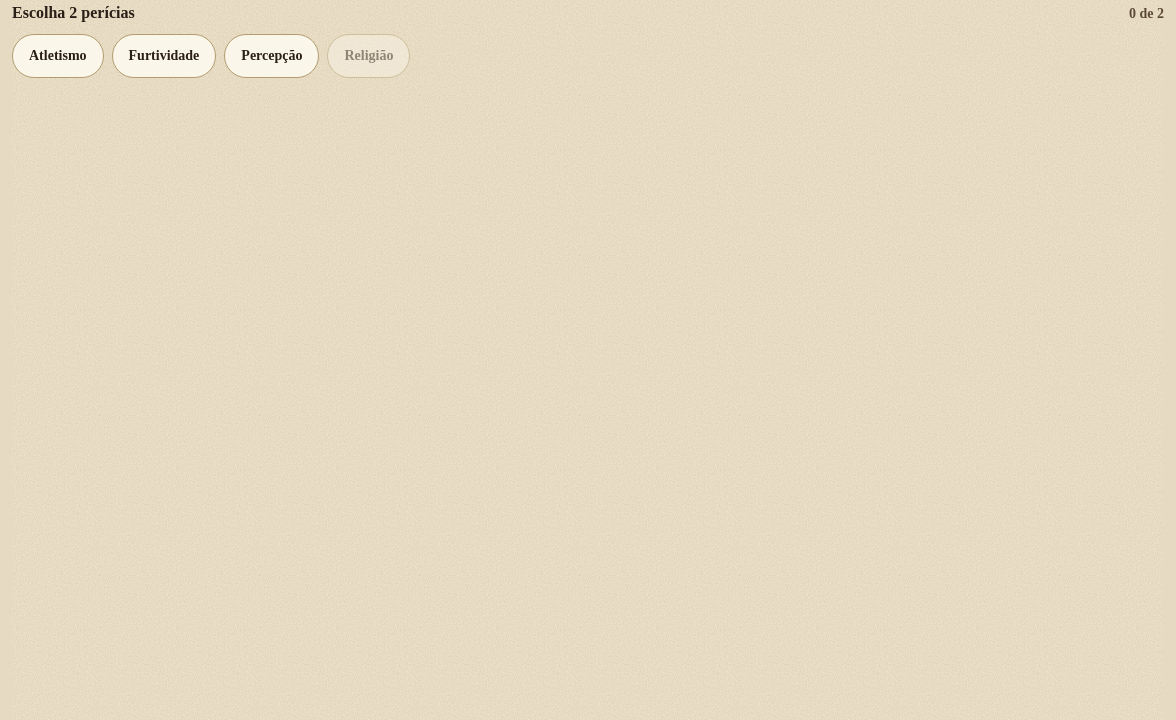
Scenario: <ChoicePicker> › conta as escolhas e bloqueia quando chega no limite
The width and height of the screenshot is (1176, 720).
Check: the text "0 de 2" is shown, box 1129,4 -> 1164,24
Click the checkbox labelled "Atletismo" at (58, 56), box 12,34 -> 104,78
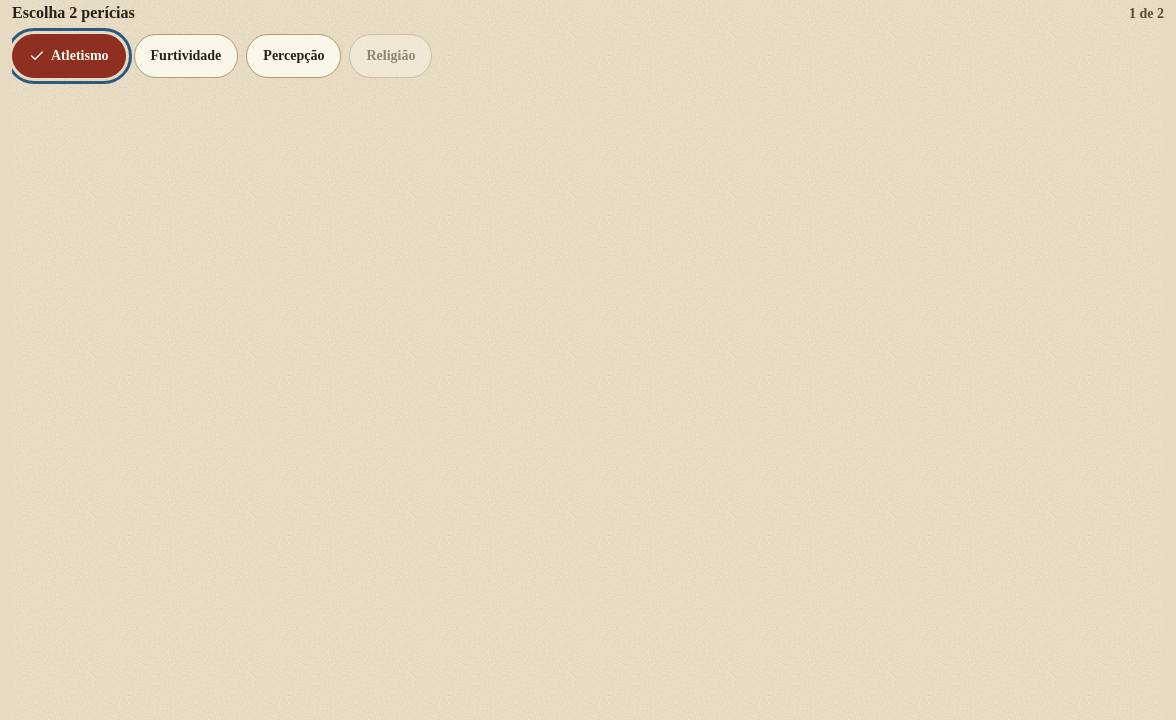
Click the checkbox labelled "Furtividade" at (186, 56), box 134,34 -> 238,78
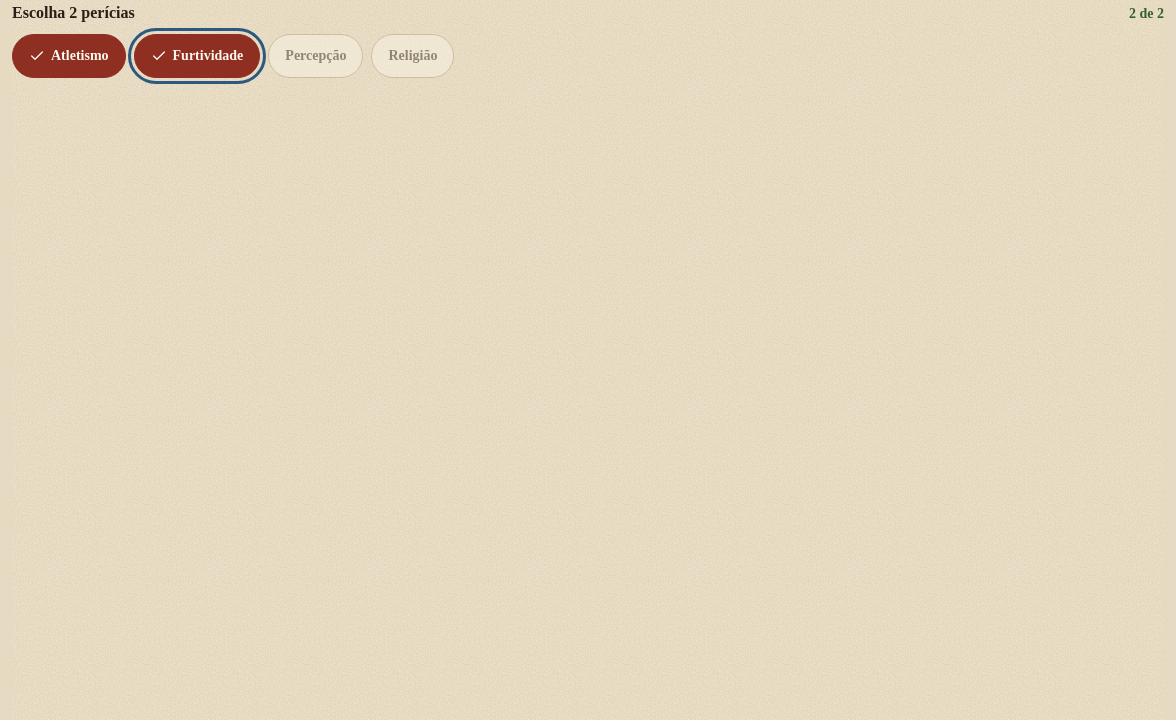
Check: the text "2 de 2" is shown, box 1129,4 -> 1164,24
Click the checkbox labelled "Percepção" at (316, 56), box 268,34 -> 364,78
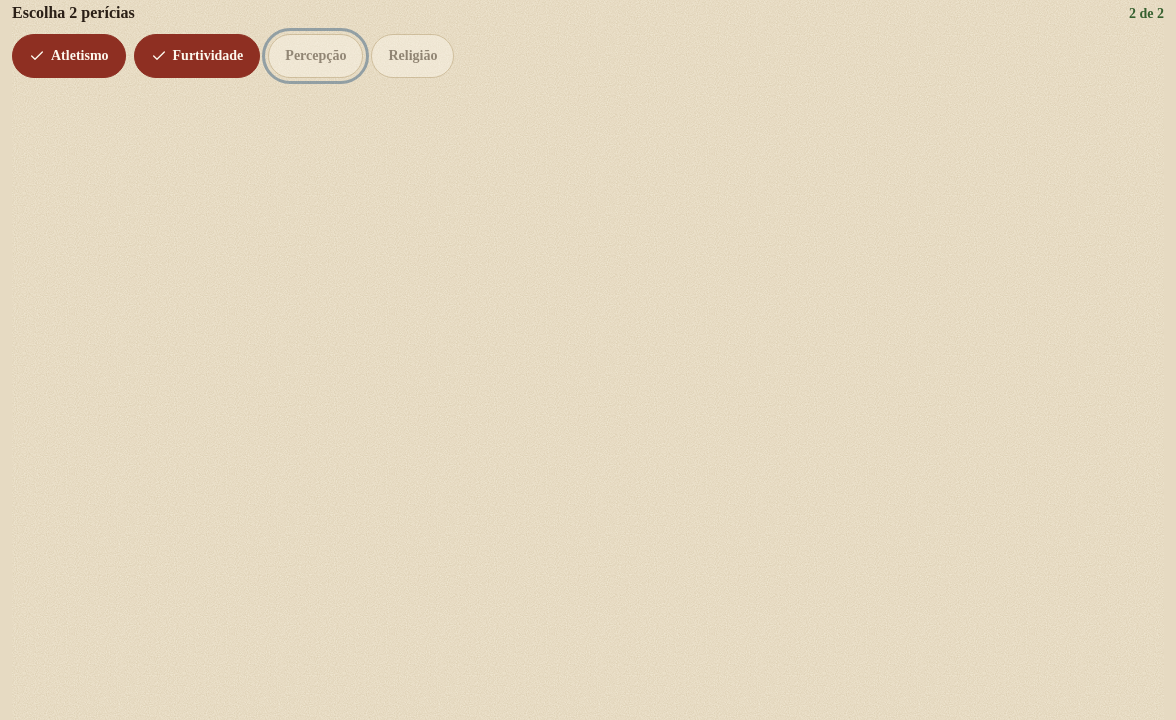
Click the checkbox labelled "Atletismo" at (69, 56), box 12,34 -> 126,78
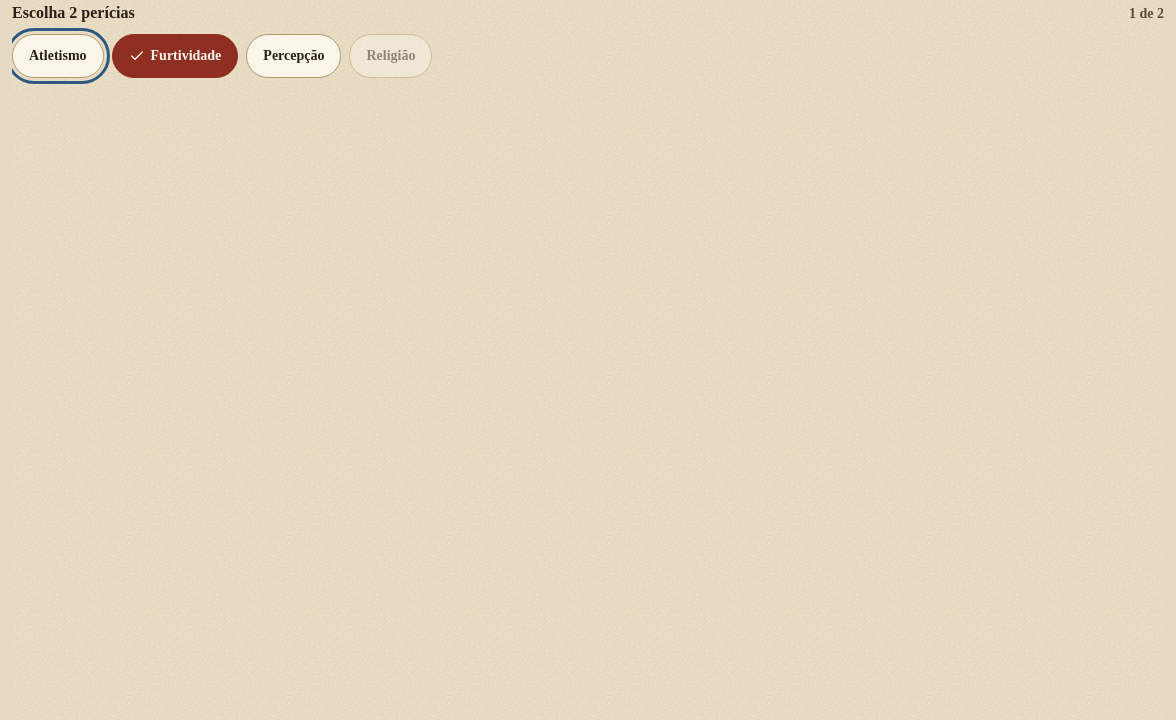
Check: the text "1 de 2" is shown, box 1129,4 -> 1164,24
